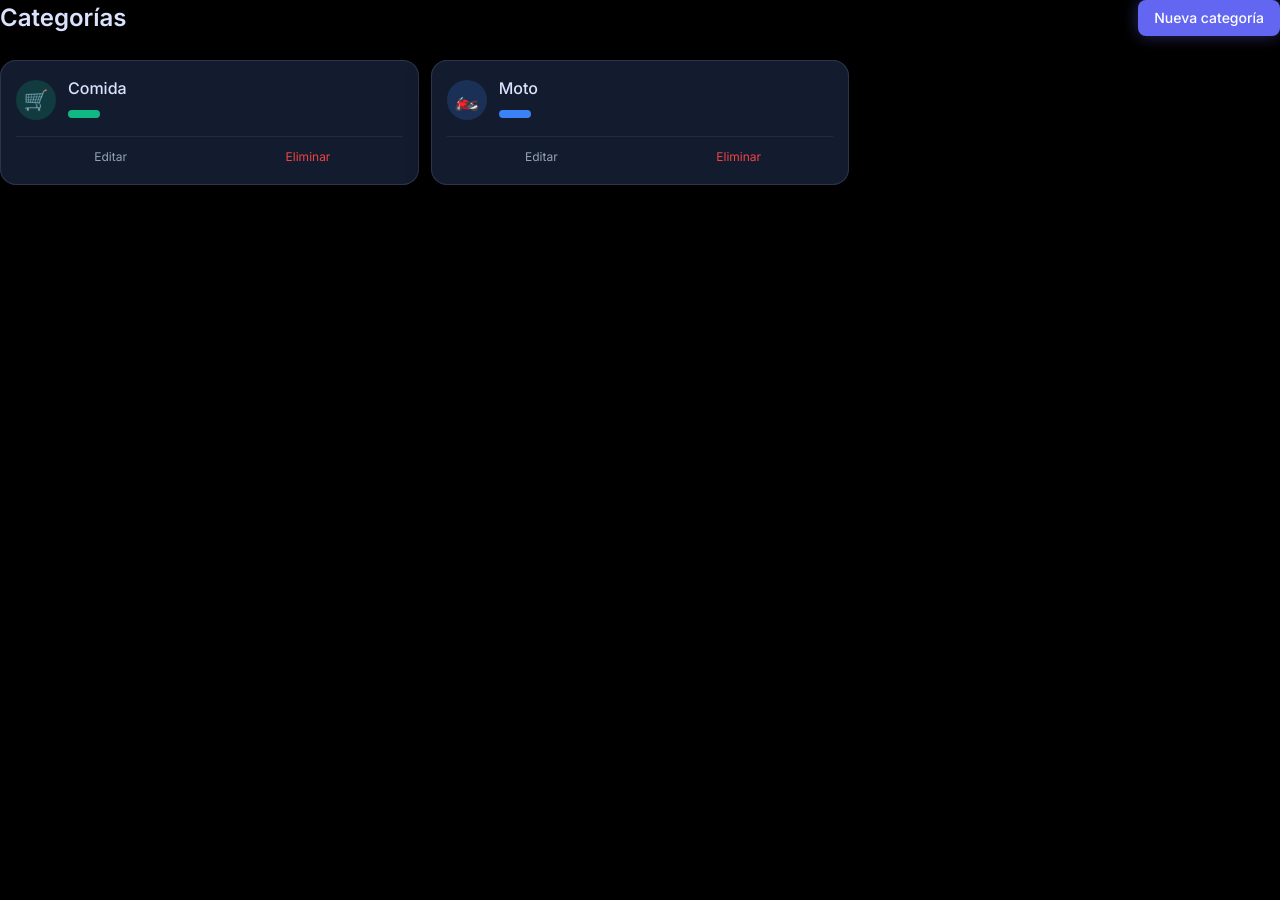
Test case: CategoriesPage › removes category after confirming deletion
Click the button with aria-label "eliminar comida" at (308, 157), box [213,145,403,169]
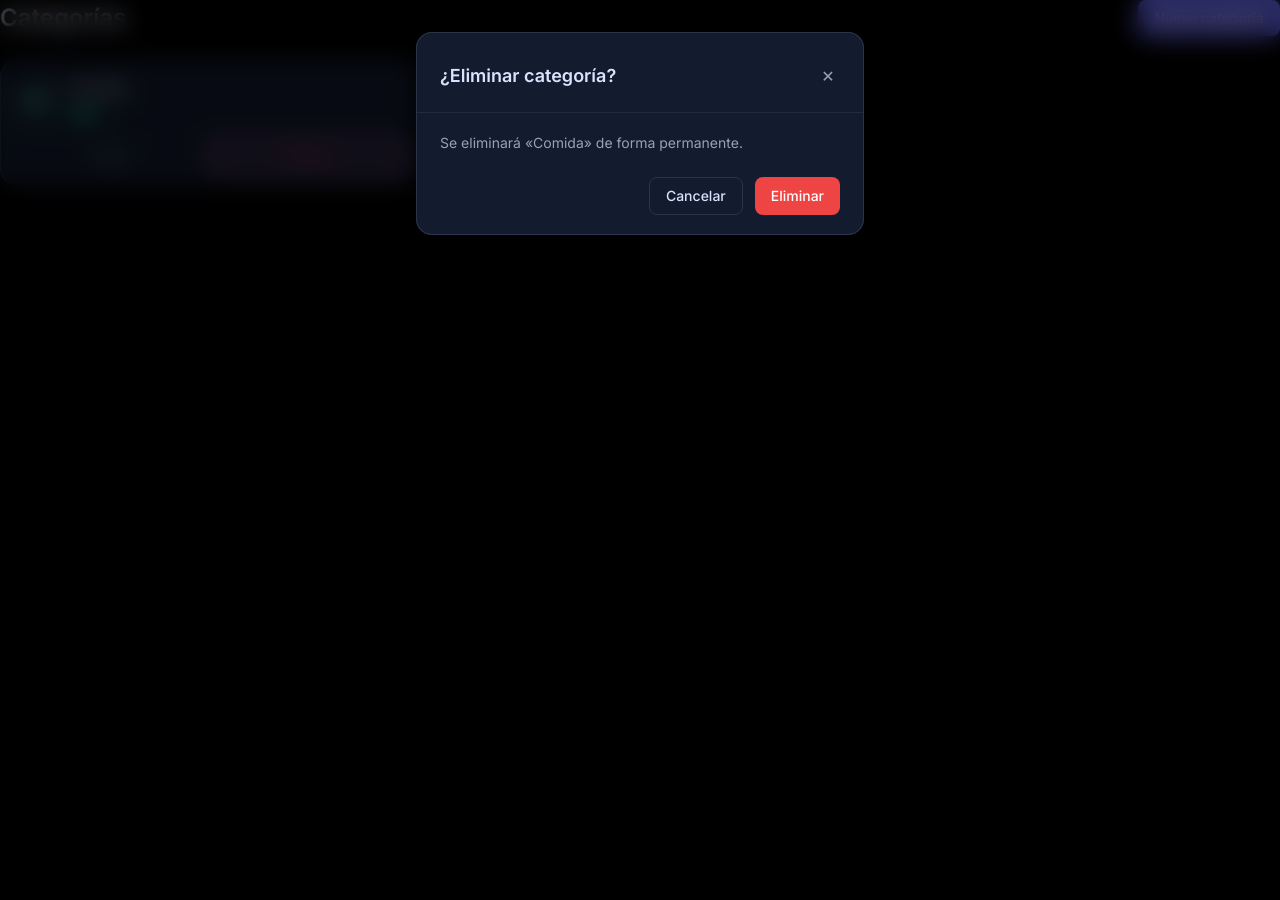
# Click the confirm "Eliminar" button inside the dialog
Click the button "Eliminar" at (797, 196), box [755,177,840,215]
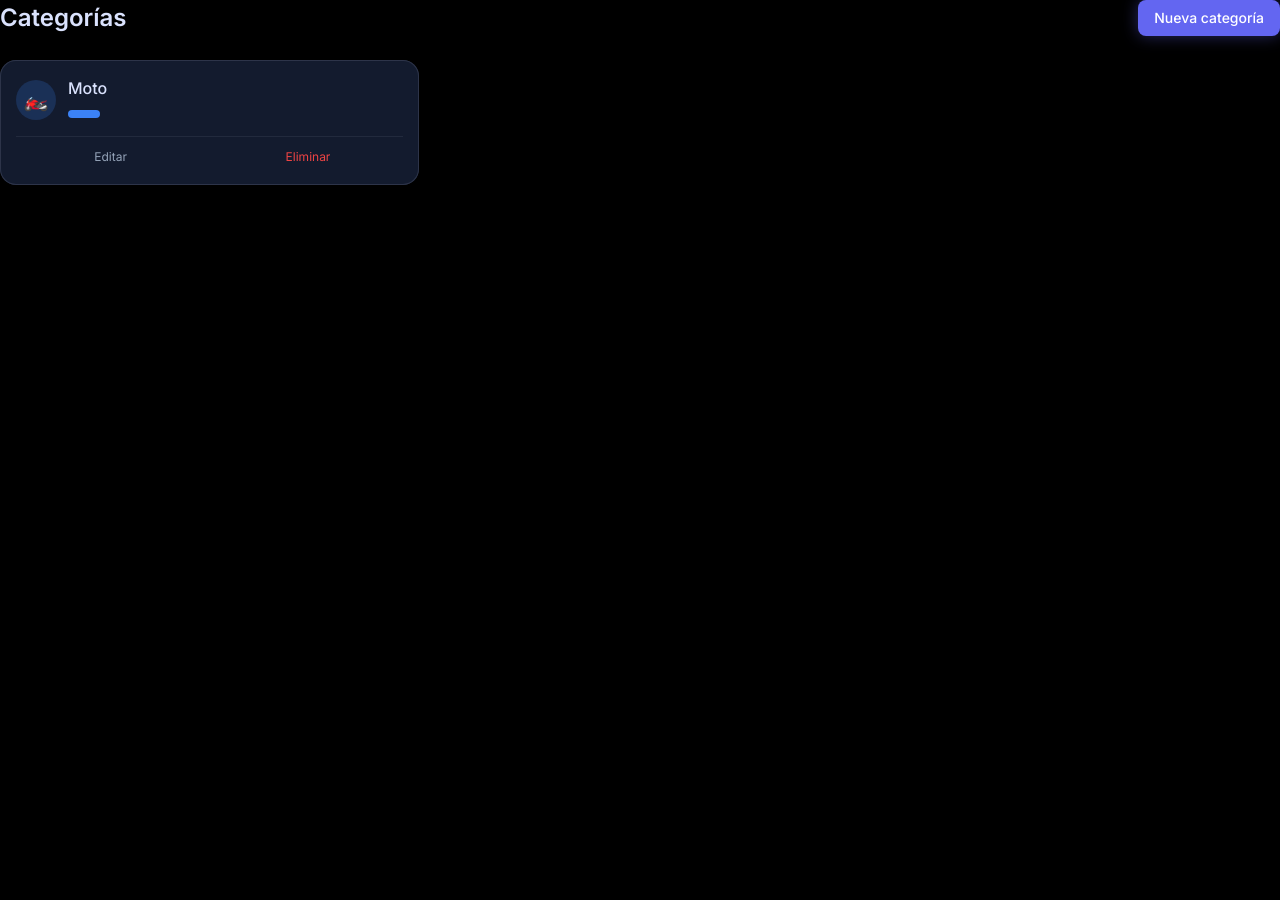
Result: the text "Comida" is gone
